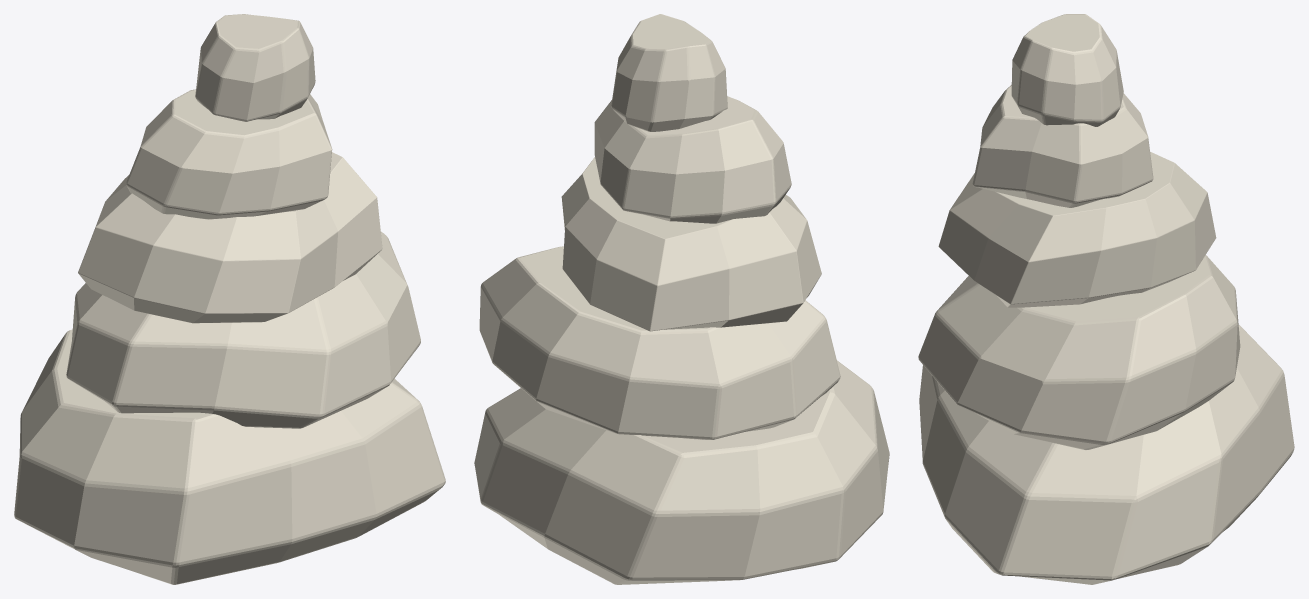
The model's file is Test_CheonRef_CairnB.fbx.
3 renders of one model, left to right at view 1: azimuth 30°, elevation 25°; view 2: azimuth 150°, elevation 25°; view 3: azimuth 270°, elevation 25°, orthographic. The views are drawn at different scales.
Visible parts, largest first — view 1: BalancedCairnStone.002, BalancedCairnStone.003, BalancedCairnStone.004, BalancedCairnStone.005, BalancedCairnStone.006; view 2: BalancedCairnStone.002, BalancedCairnStone.003, BalancedCairnStone.004, BalancedCairnStone.005, BalancedCairnStone.006; view 3: BalancedCairnStone.002, BalancedCairnStone.003, BalancedCairnStone.004, BalancedCairnStone.005, BalancedCairnStone.006.
Boxes of the visible parts, x1,y1,x2,y2 form: BalancedCairnStone.002: [14, 329, 445, 584]; BalancedCairnStone.003: [66, 231, 420, 428]; BalancedCairnStone.004: [78, 152, 382, 323]; BalancedCairnStone.005: [126, 89, 332, 219]; BalancedCairnStone.006: [195, 14, 315, 121]; BalancedCairnStone.002: [474, 360, 889, 584]; BalancedCairnStone.003: [479, 246, 840, 439]; BalancedCairnStone.004: [561, 157, 821, 331]; BalancedCairnStone.005: [594, 96, 791, 223]; BalancedCairnStone.006: [611, 14, 727, 131]; BalancedCairnStone.002: [919, 325, 1294, 584]; BalancedCairnStone.003: [918, 255, 1240, 449]; BalancedCairnStone.004: [938, 151, 1216, 307]; BalancedCairnStone.005: [972, 85, 1153, 207]; BalancedCairnStone.006: [1011, 14, 1123, 126].
Bounding box in the file's own units: 157 × 190 × 135.
